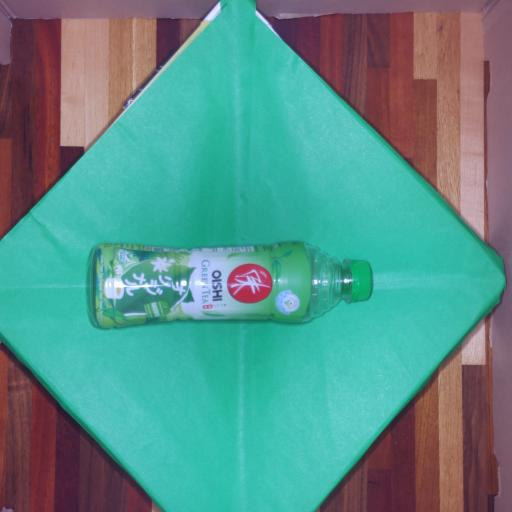bottle: (76, 226, 388, 336)
